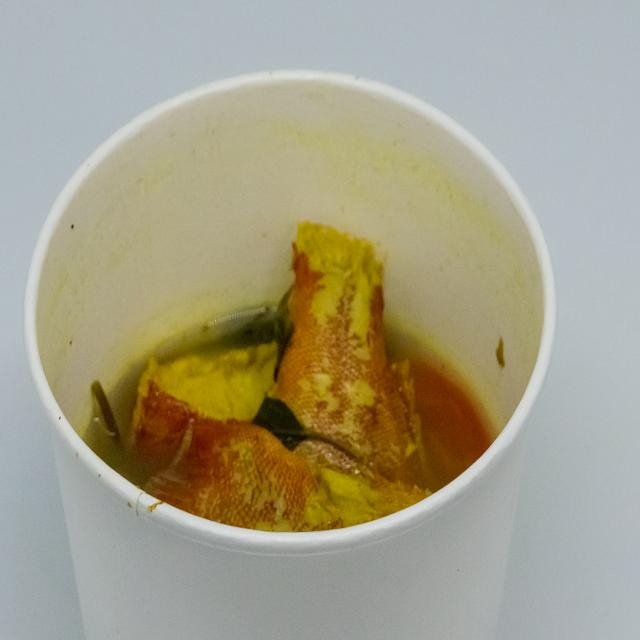Gulai-Ikan-Mas: (75, 201, 486, 544)
